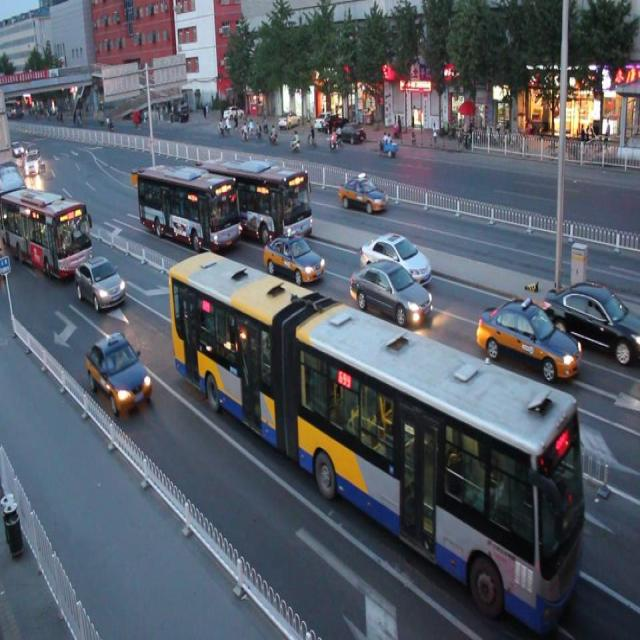car: (475, 293, 579, 382), (546, 278, 640, 365), (348, 256, 432, 329), (85, 330, 152, 413), (358, 227, 431, 289), (260, 231, 324, 286), (75, 255, 126, 312), (336, 171, 388, 217), (166, 166, 198, 195)
van: (169, 248, 582, 631), (198, 152, 312, 246), (137, 164, 241, 251), (1, 187, 92, 278)
